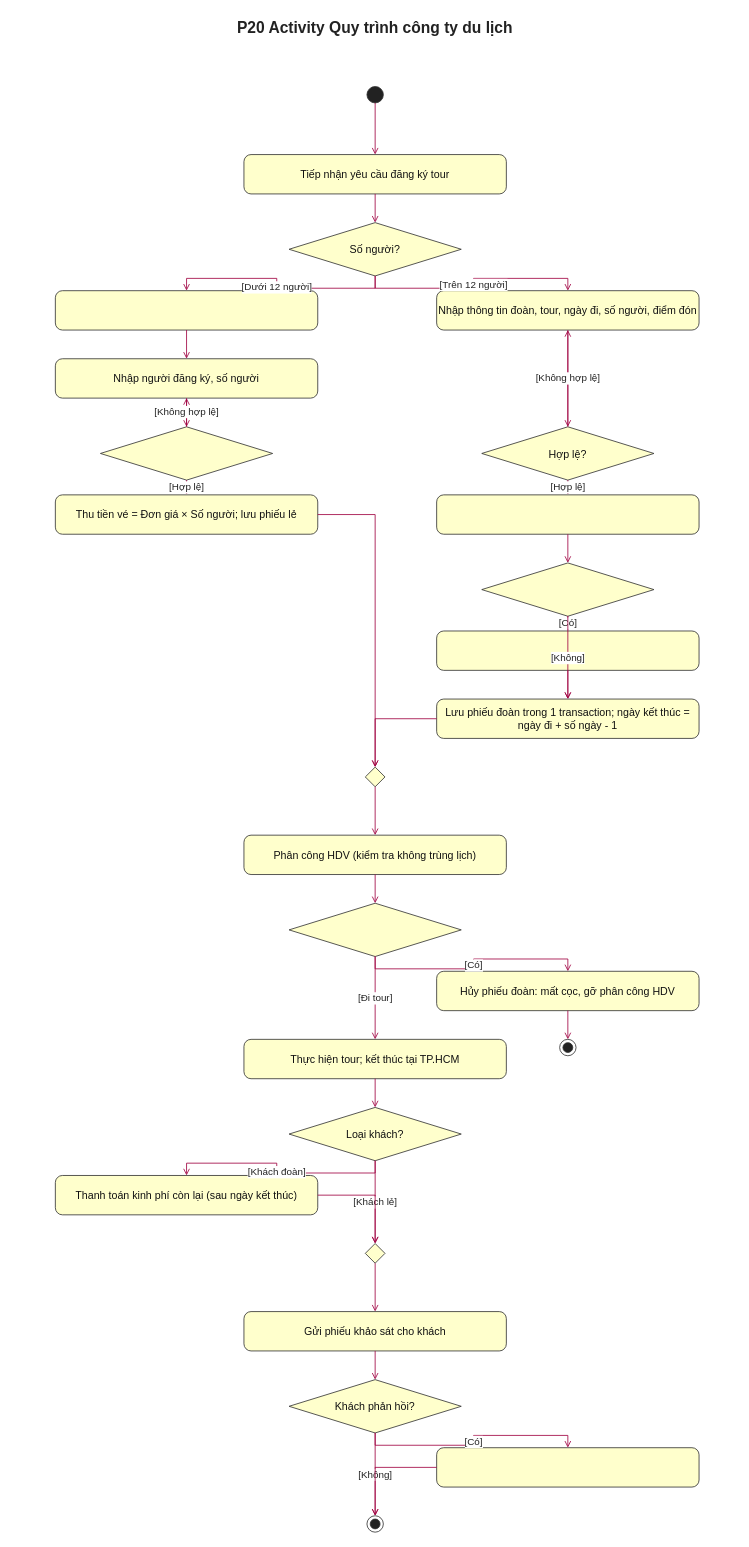
This 749x1547 diagram has some shape labels left out. The shapes that lost their labels are listed below. From the top down, each one's centre as x and y in pixels, then its label:
point 186,310: Chọn chuyến đang mở đăng ký
point 186,453: Chuyến mở và thông tin hợp lệ?
point 567,514: Thu tiền cọc
point 567,589: Mua bảo hiểm?
point 567,650: Nhập danh sách người cùng đi
point 374,929: Đoàn không đi trước ngày đi?
point 567,1467: Ghi nhận góp ý
